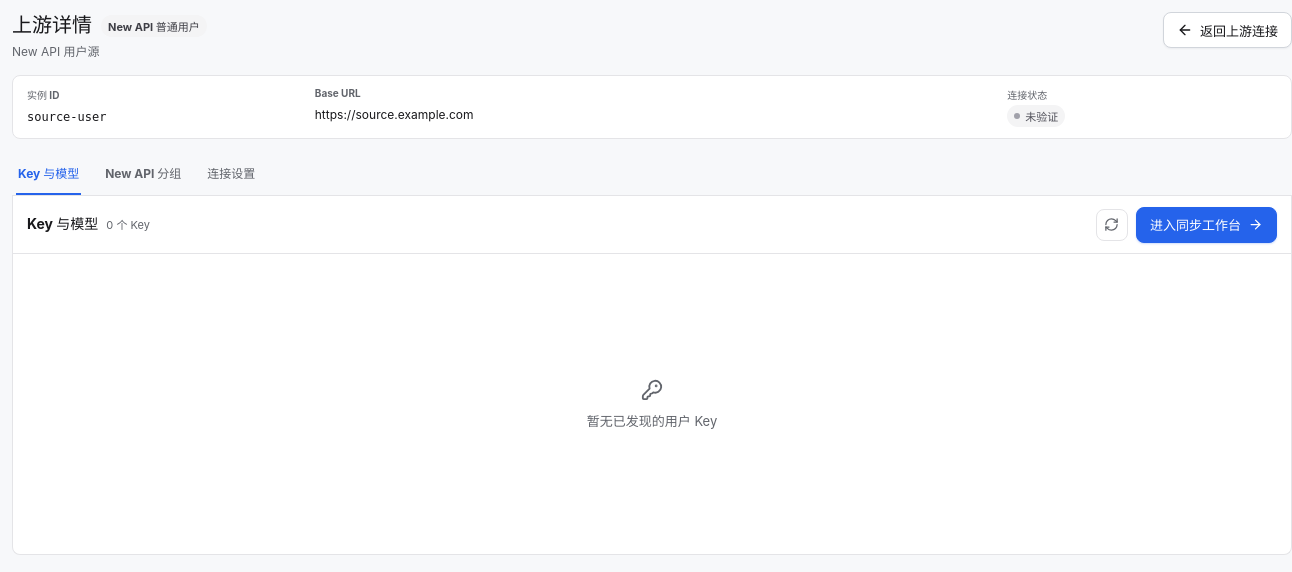
Test: Connection resource details › loads the New API group snapshot and retries a failed request
This screenshot has width=1292, height=572.
Step 1. Click the tab "New API 分组" → (143, 173), box top-left (103, 151), bottom-right (183, 195)
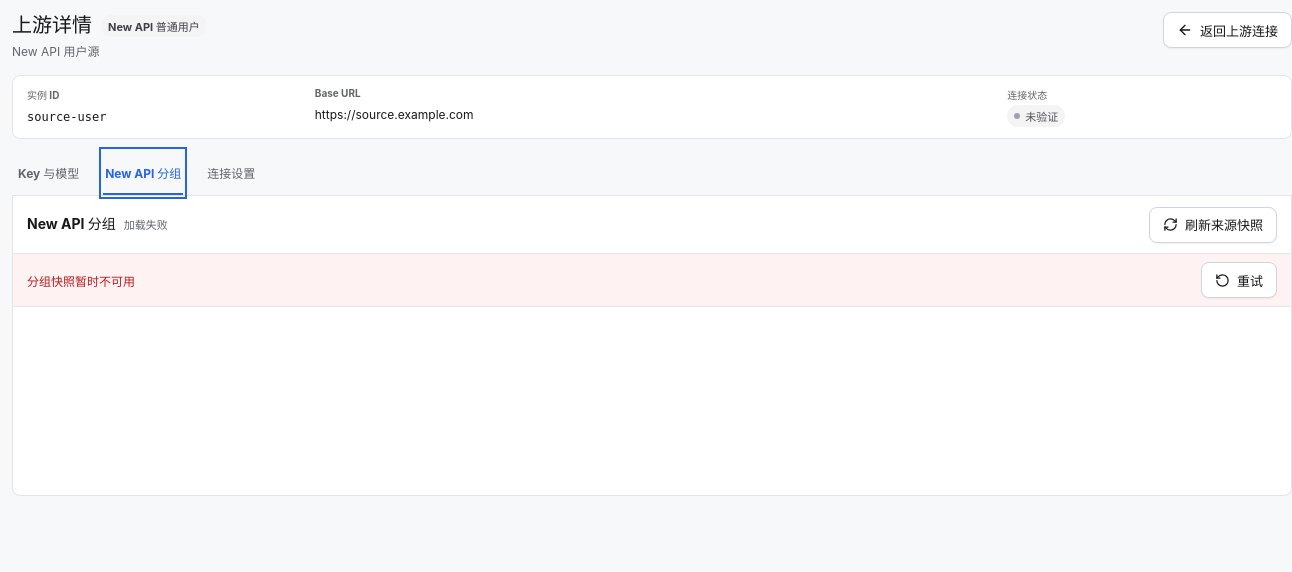
Now the message shows "分组快照暂时不可用", box top-left (27, 274), bottom-right (135, 288)
Step 2. Click the button with aria-label "重试分组快照" → (1239, 280), box top-left (1201, 262), bottom-right (1277, 298)
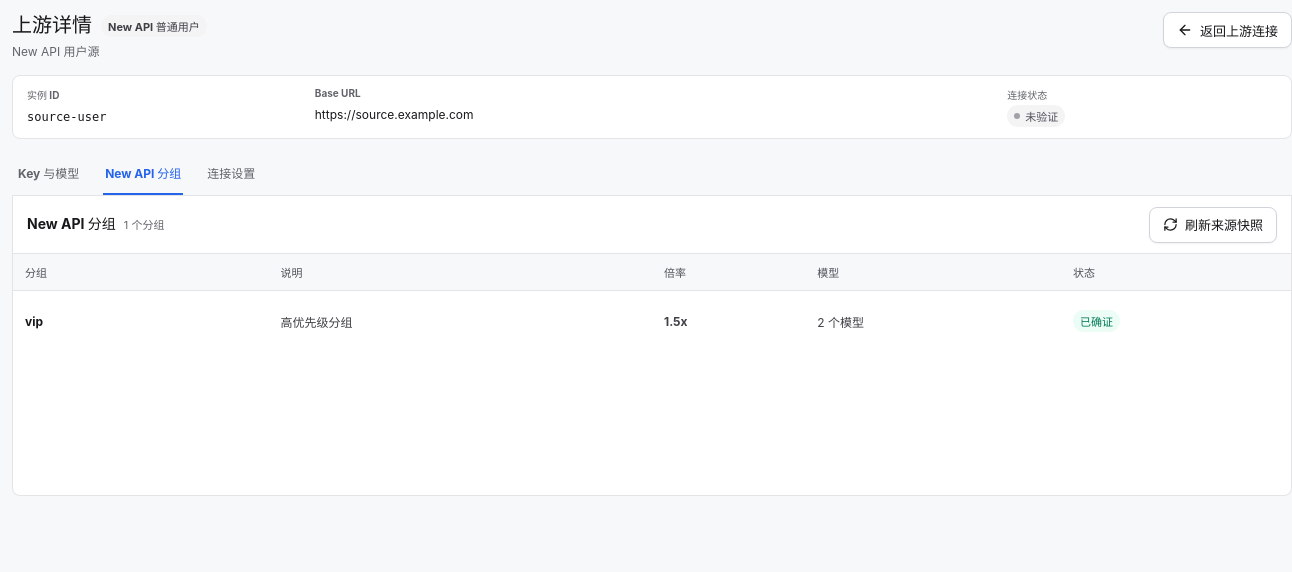
Now the text "高优先级分组" is shown, box top-left (269, 290), bottom-right (652, 352)
Now the text "1.5x" is shown, box top-left (664, 314), bottom-right (688, 329)
Now the text "2 个模型" is shown, box top-left (817, 315), bottom-right (864, 330)
